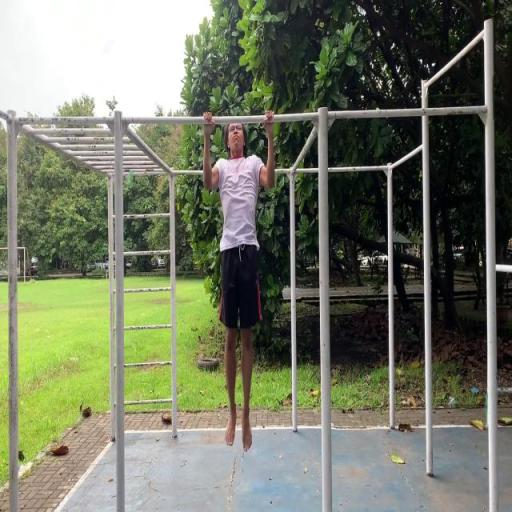Normal_BrenchPress: (201, 110, 276, 453)
